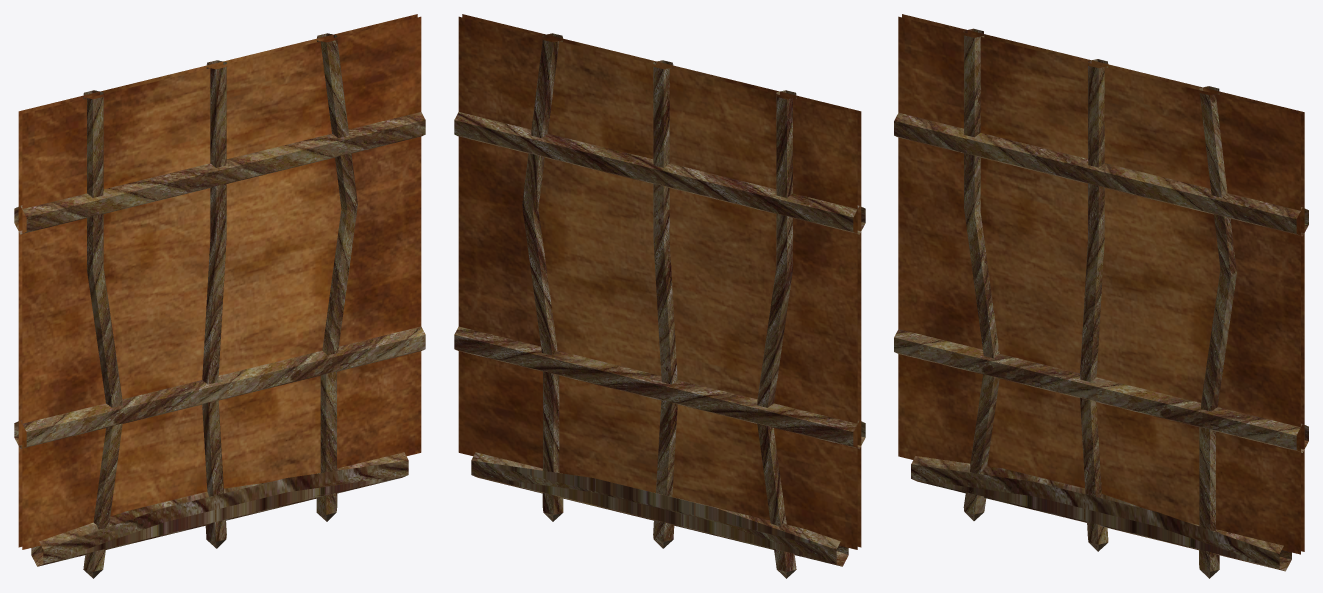
Rendered from door_dath_nightsister_s02.fbx.
3 views of the same model, side by side, from view 1: azimuth 30°, elevation 25°; view 2: azimuth 150°, elevation 25°; view 3: azimuth 330°, elevation 25° (orthographic).
Visible parts, largest first — view 1: mesh_node; view 2: mesh_node; view 3: mesh_node.
Boxes of the visible parts, x1,y1,x2,y2 form: mesh_node: (14, 14, 425, 578); mesh_node: (454, 14, 865, 578); mesh_node: (894, 14, 1308, 578).
Size of the model in its own units: 3.51 by 4.07 by 0.1865.
